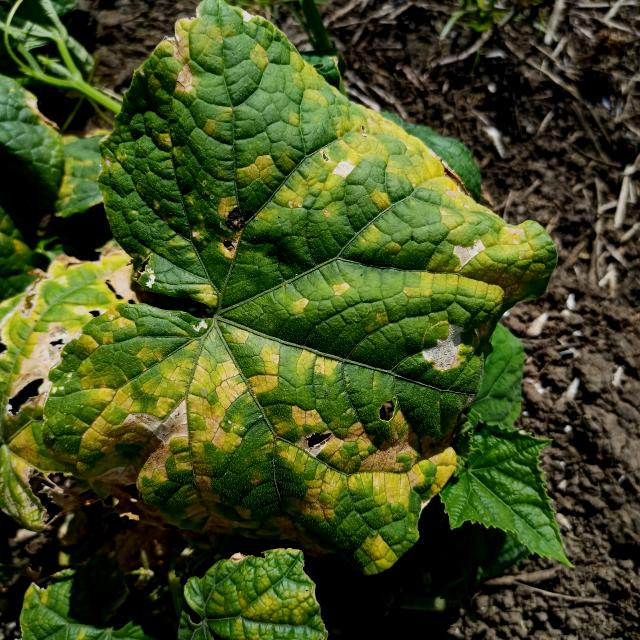disease_cucumber: (32, 28, 519, 586)
